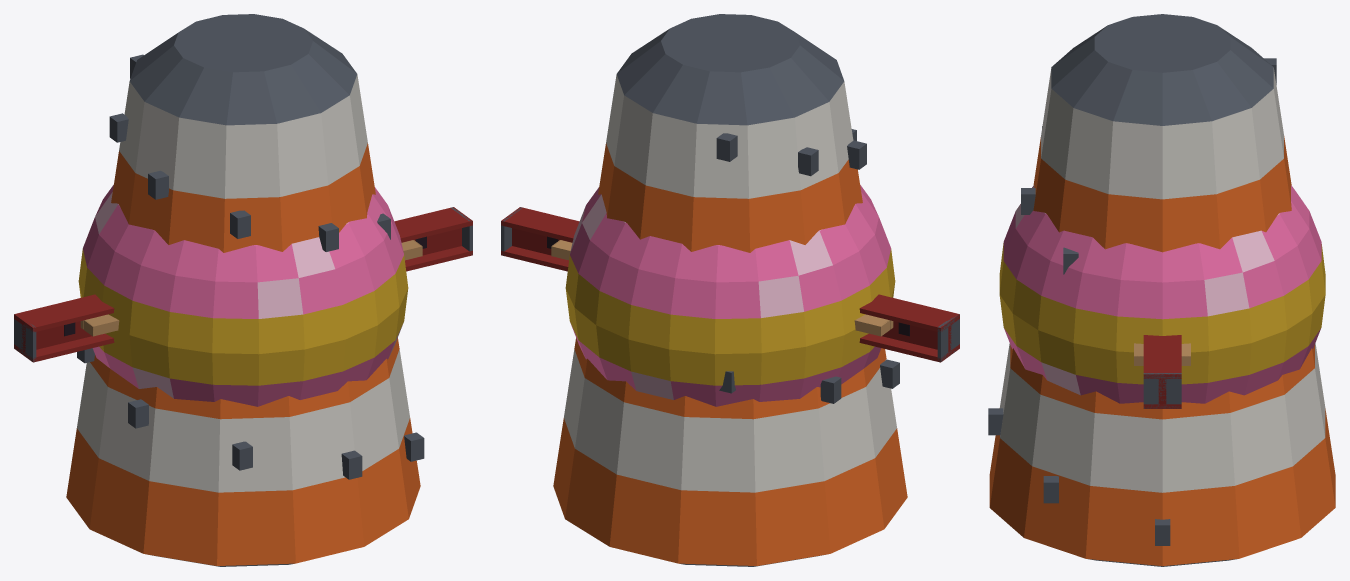
File: props.glb
3 renders of one model, left to right at view 1: azimuth 30°, elevation 25°; view 2: azimuth 150°, elevation 25°; view 3: azimuth 270°, elevation 25°, orthographic.
Visible parts, largest first — view 1: DYN_drum, DYN_big_ball, DYN_beam, DYN_plank; view 2: DYN_drum, DYN_big_ball, DYN_beam, DYN_plank; view 3: DYN_drum, DYN_big_ball, DYN_beam, DYN_plank.
Boxes of the visible parts, <box> form: DYN_drum: <box>66,14,424,566</box>; DYN_big_ball: <box>78,185,408,406</box>; DYN_beam: <box>14,207,472,362</box>; DYN_plank: <box>80,240,422,336</box>; DYN_drum: <box>553,14,907,566</box>; DYN_big_ball: <box>565,185,895,406</box>; DYN_beam: <box>501,207,959,362</box>; DYN_plank: <box>551,240,893,336</box>; DYN_drum: <box>988,14,1335,566</box>; DYN_big_ball: <box>999,185,1325,403</box>; DYN_beam: <box>1143,335,1181,408</box>; DYN_plank: <box>1134,343,1190,365</box>.
Bounding box in the file's own units: 4 × 4 × 2.74.
